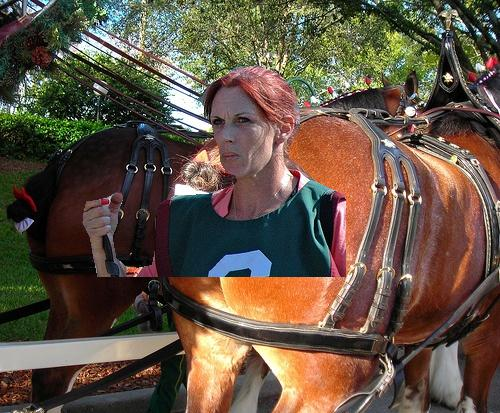tampered: (83, 66, 346, 277)
